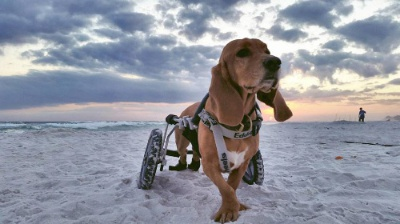daisy: (209, 30, 298, 131)
